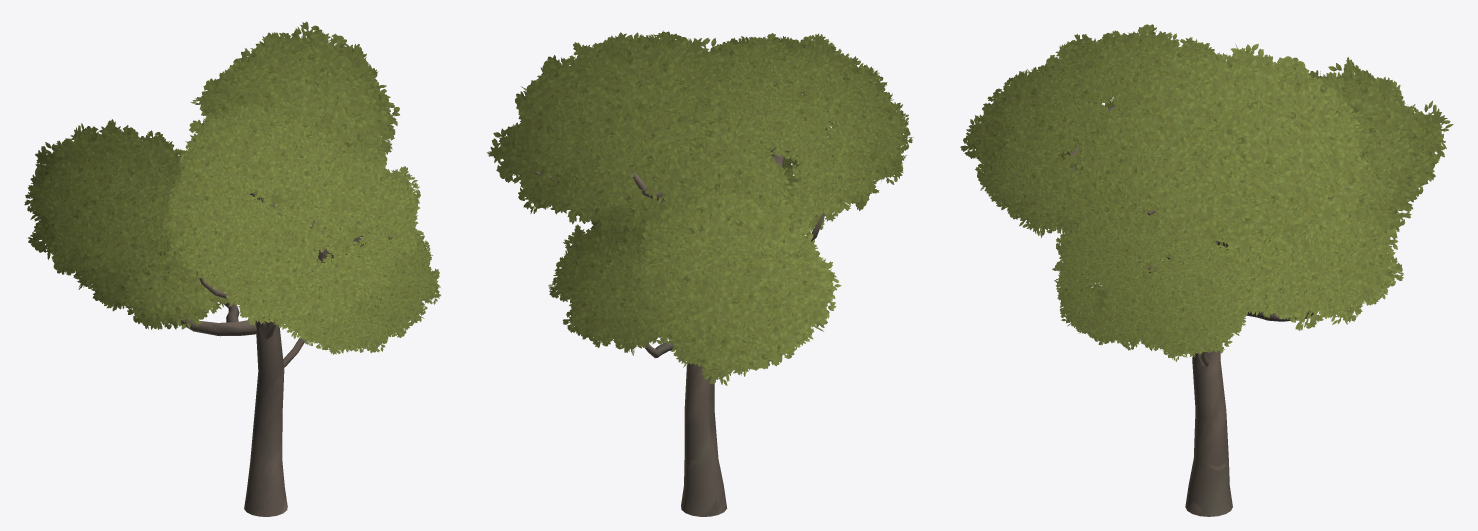
The model's file is SM_Tree_02.fbx.
The picture shows the model from 3 angles, left to right: view 1: azimuth 30°, elevation 25°; view 2: azimuth 150°, elevation 25°; view 3: azimuth 270°, elevation 25°; orthographic projection. The views are drawn at different scales.
Parts seen in each view (by area): view 1: SM_Tree_02_LOD0; view 2: SM_Tree_02_LOD0; view 3: SM_Tree_02_LOD0.
Boxes of the visible parts, x1,y1,x2,y2 form: SM_Tree_02_LOD0: [24, 21, 440, 516]; SM_Tree_02_LOD0: [487, 30, 913, 516]; SM_Tree_02_LOD0: [960, 24, 1453, 516].
Bounding box in the file's own units: 946 × 1138 × 1195.
2 materials, 2 textured.
